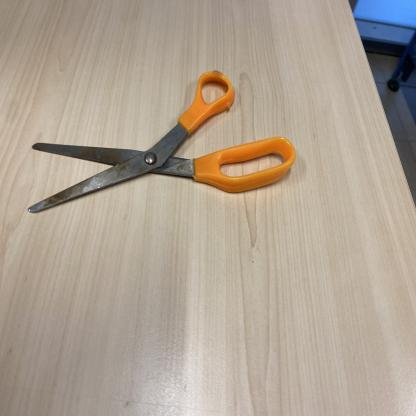scissors: (30, 70, 297, 215)
